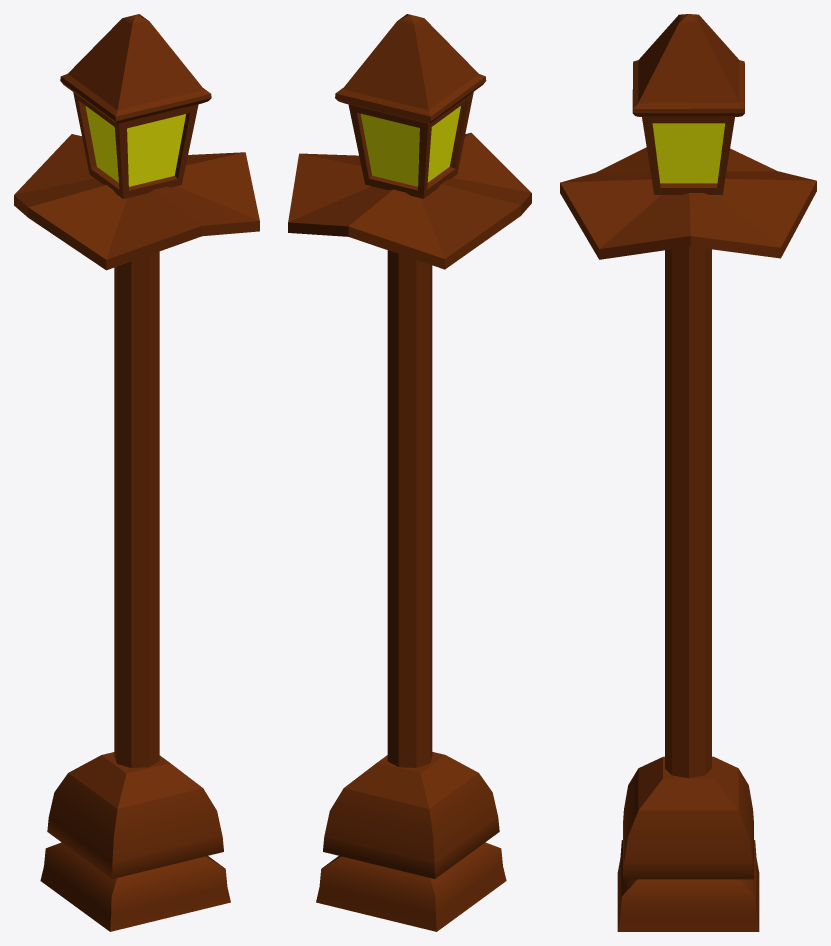
The model's file is LampPost 1.fbx.
The picture shows the model from 3 angles, left to right: view 1: azimuth 30°, elevation 25°; view 2: azimuth 150°, elevation 25°; view 3: azimuth 270°, elevation 25°; orthographic projection.
Visible parts, largest first — view 1: pCylinder1, pCube1, pCube2; view 2: pCylinder1, pCube1, pCube2; view 3: pCylinder1, pCube1, pCube2.
Boxes of the visible parts, x1,y1,x2,y2 form: pCylinder1: [14, 134, 259, 768]; pCube1: [40, 752, 230, 931]; pCube2: [60, 14, 211, 198]; pCylinder1: [288, 132, 531, 767]; pCube1: [316, 752, 506, 931]; pCube2: [335, 14, 486, 198]; pCylinder1: [560, 147, 816, 777]; pCube1: [617, 756, 759, 931]; pCube2: [632, 14, 744, 194].
Bounding box in the file's own units: 1.76 × 6.72 × 1.76.
